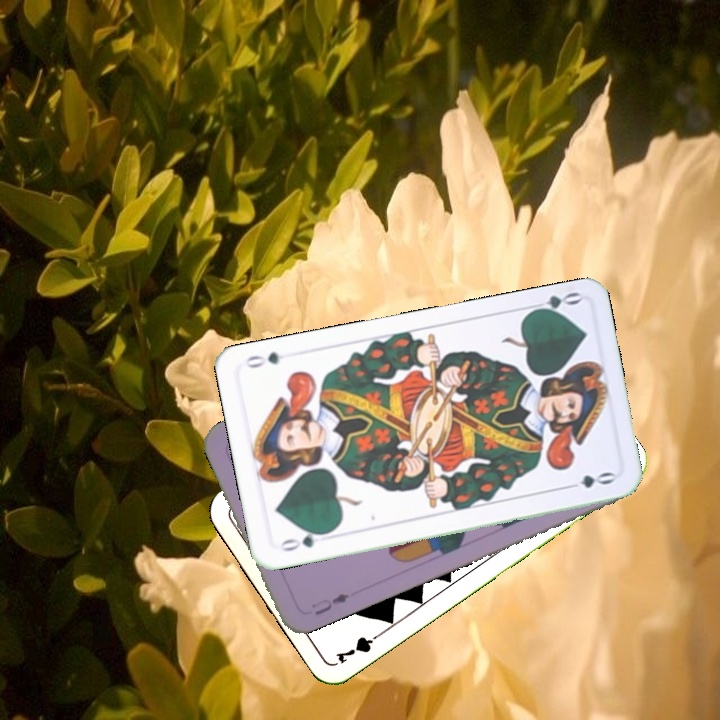EU: (307, 589, 352, 618)
G7: (332, 628, 386, 666)
GO: (524, 288, 583, 318), (274, 527, 332, 554)
